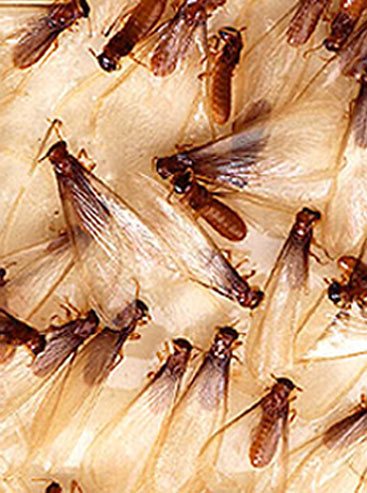flying termite: (30, 128, 181, 322), (140, 104, 347, 241), (128, 181, 264, 323), (51, 290, 143, 449), (243, 188, 319, 371), (103, 339, 189, 493), (165, 325, 243, 493), (7, 298, 93, 419), (231, 368, 310, 493)
